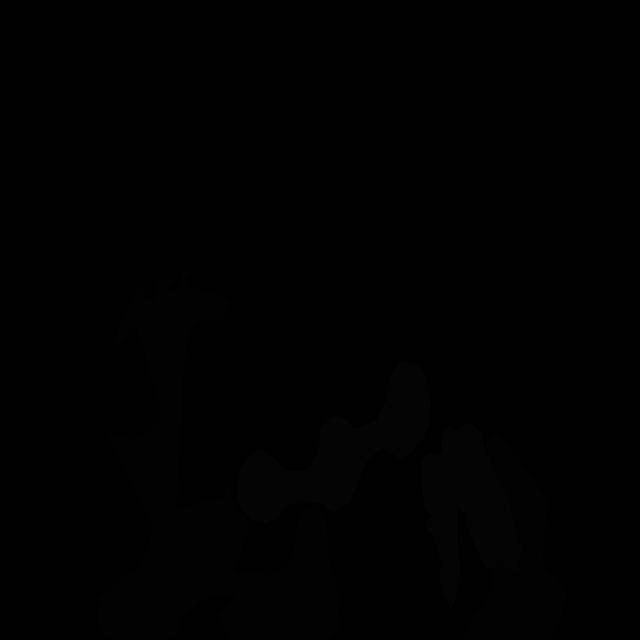cardboard: (98, 269, 270, 640), (460, 432, 568, 640), (217, 504, 338, 640)
soft_plastic: (237, 362, 432, 524), (421, 423, 523, 609)
